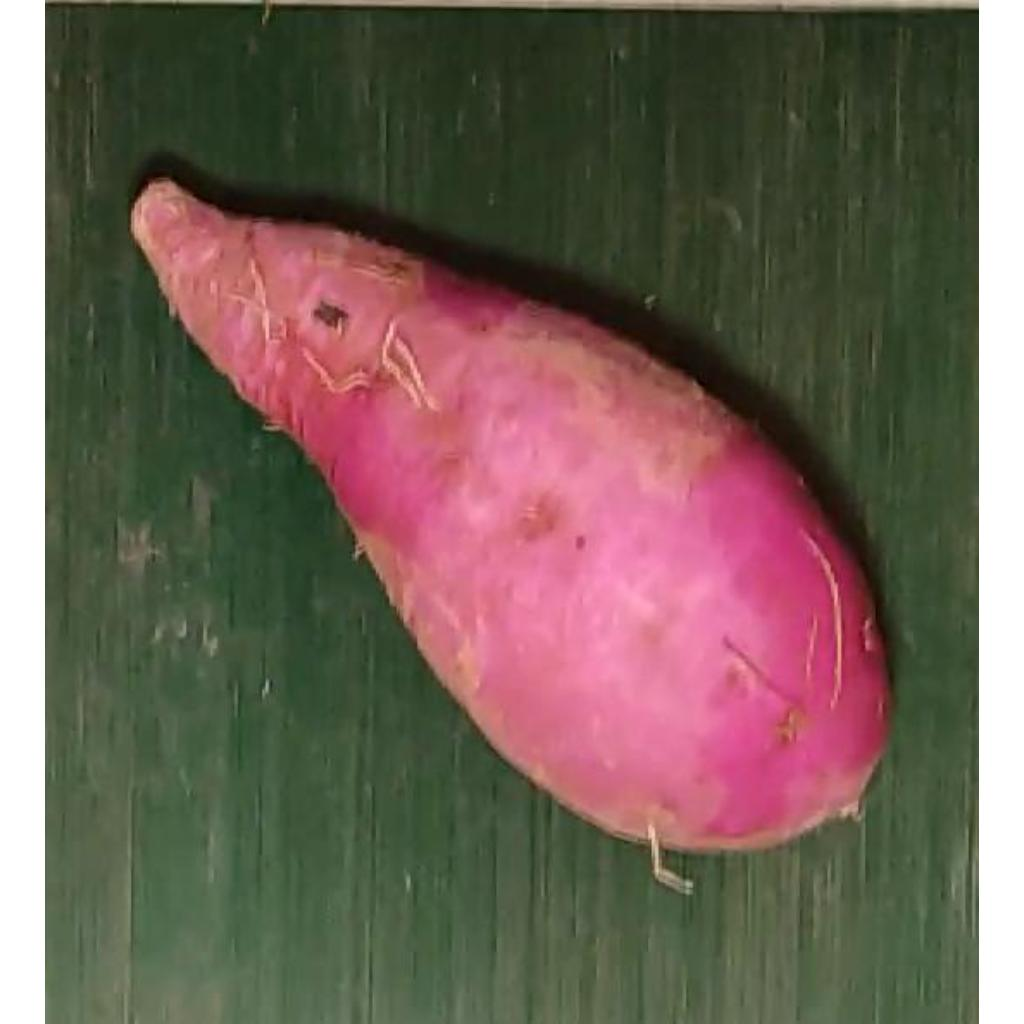Sweet Potato: (128, 169, 895, 893)
